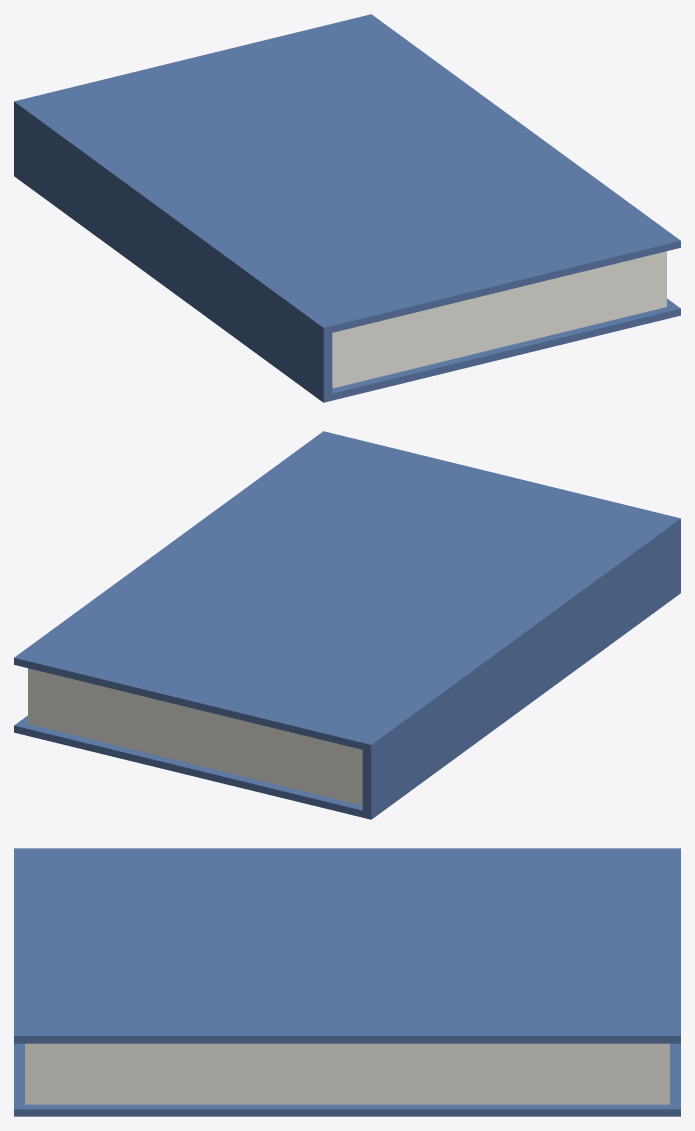
Rendered from Prop_Book_A.fbx.
3 views of the same model, one above another, from view 1: azimuth 30°, elevation 25°; view 2: azimuth 150°, elevation 25°; view 3: azimuth 270°, elevation 25° (orthographic). The views are drawn at different scales.
Parts seen in each view (by area): view 1: Prop_Book_A; view 2: Prop_Book_A; view 3: Prop_Book_A.
Part boxes in pixels (<box>): Prop_Book_A: <box>14,14,680,402</box>; Prop_Book_A: <box>14,431,680,819</box>; Prop_Book_A: <box>14,848,680,1116</box>.
Size of the model in its own units: 0.16 by 0.032 by 0.24.
